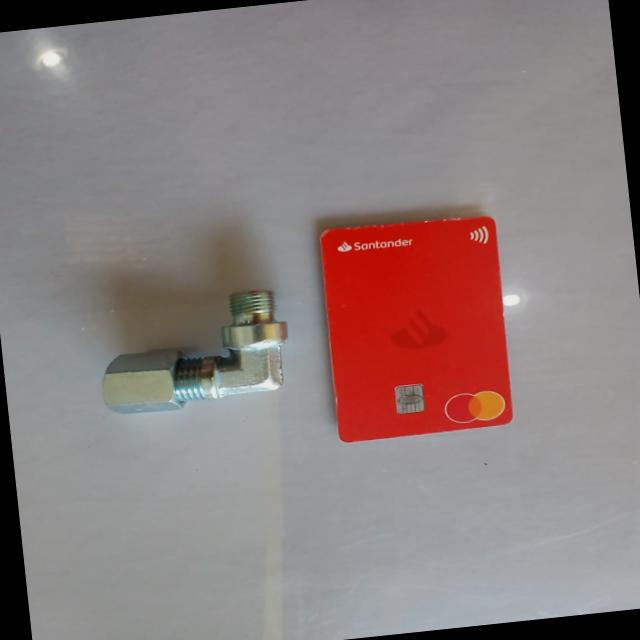cartao: (317, 210, 516, 442)
rosca_externa: (96, 286, 298, 416)
